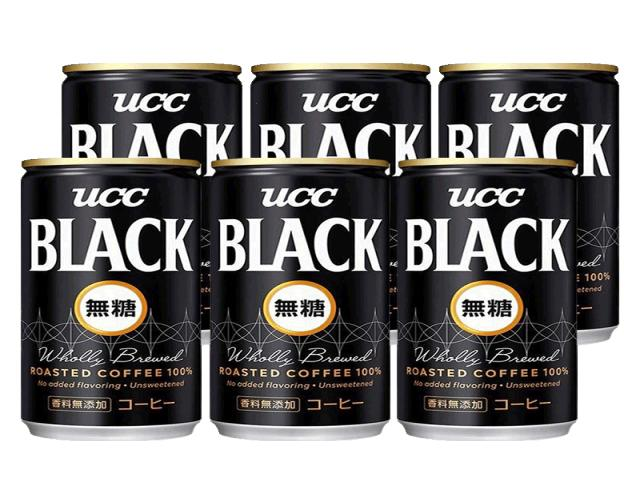Canned_drinks: (210, 158, 390, 441), (21, 158, 200, 439), (439, 63, 619, 342), (398, 159, 576, 439), (62, 63, 241, 177), (251, 63, 430, 176)
